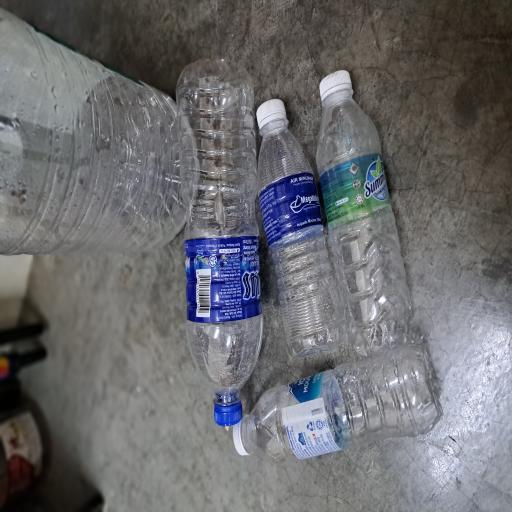plastic bottle: (192, 0, 378, 272), (86, 246, 340, 346), (118, 344, 293, 454), (128, 422, 317, 512), (37, 335, 130, 512)
plastic bottle cap: (309, 420, 336, 476), (287, 337, 312, 387), (64, 284, 87, 328), (41, 306, 70, 337)
